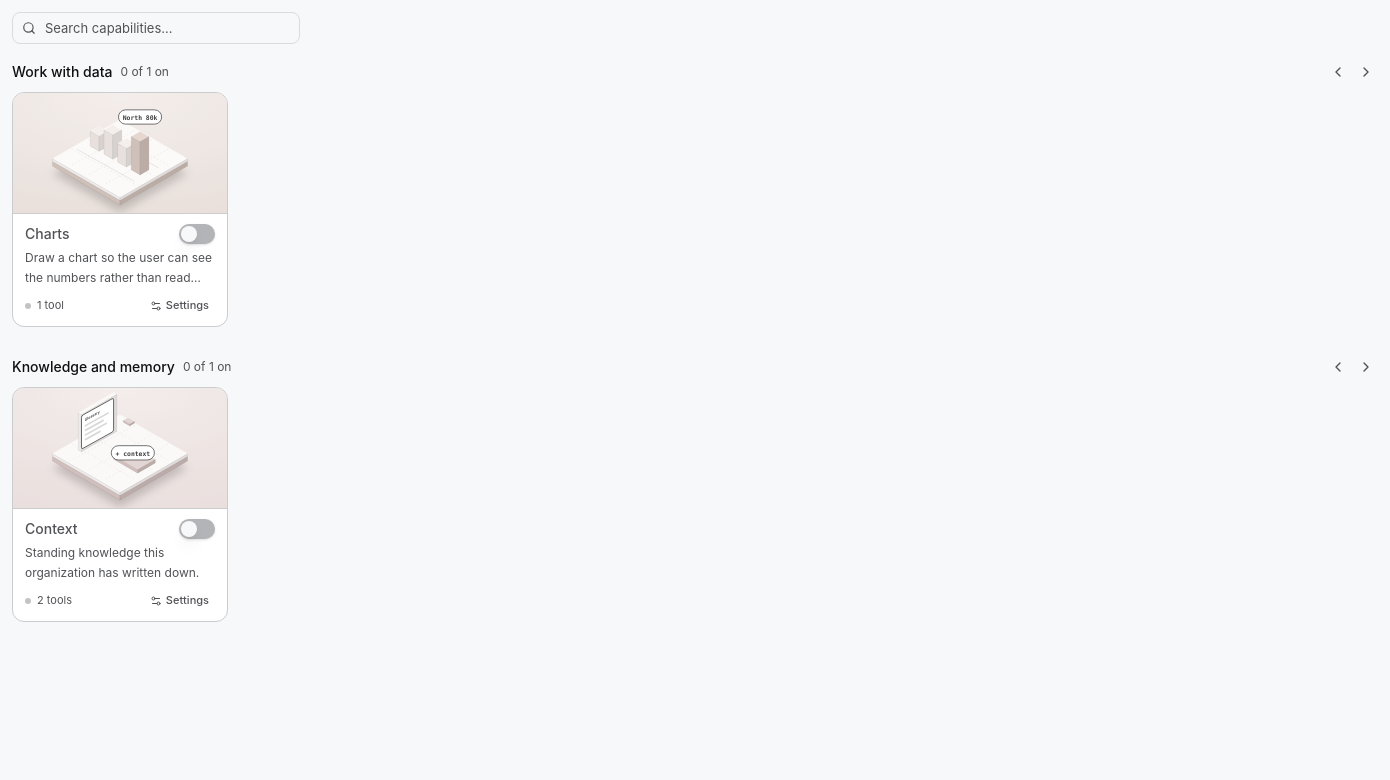
Test: the workbench as illustrated cards › says when a search matches nothing
The width and height of the screenshot is (1390, 780).
Type "teleport" into the field with placeholder "Search capabilities…" at [156, 28], box [12, 12, 300, 44]
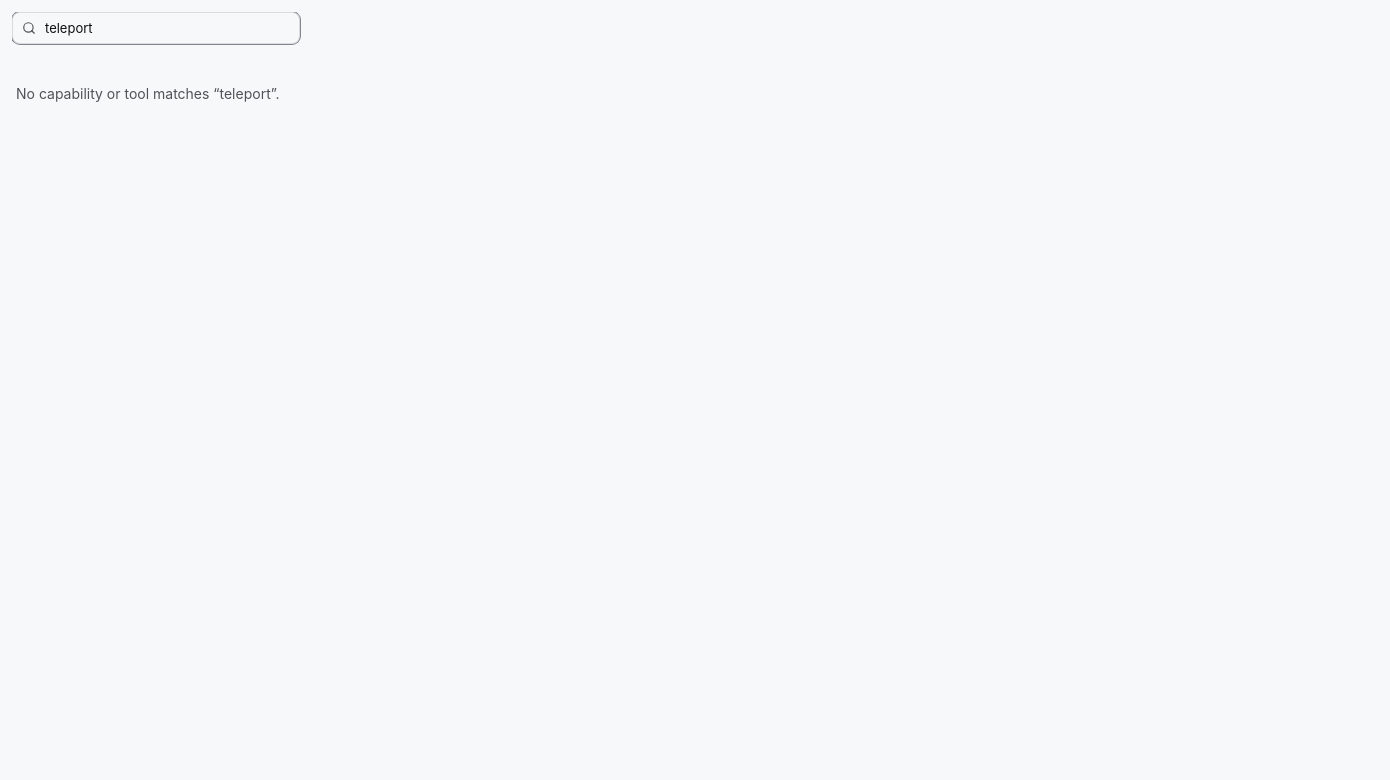
Result: the text "No capability or tool matches “teleport”." is shown at [16, 85, 280, 102]
